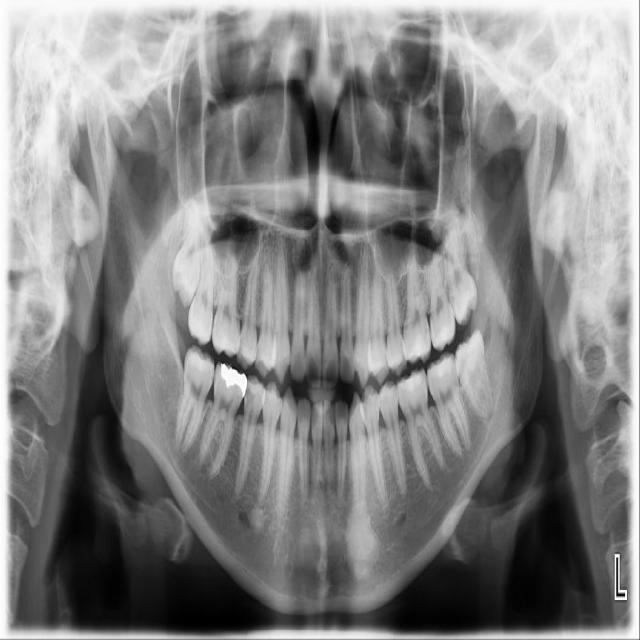Filling: (218, 362, 249, 394), (430, 355, 456, 379), (433, 322, 456, 347), (407, 334, 428, 358), (398, 371, 425, 389)
Periapical lesion: (341, 502, 377, 570), (247, 503, 267, 529), (202, 461, 218, 482)
impacted tooth: (442, 211, 477, 321), (454, 331, 493, 416), (172, 201, 202, 303)
